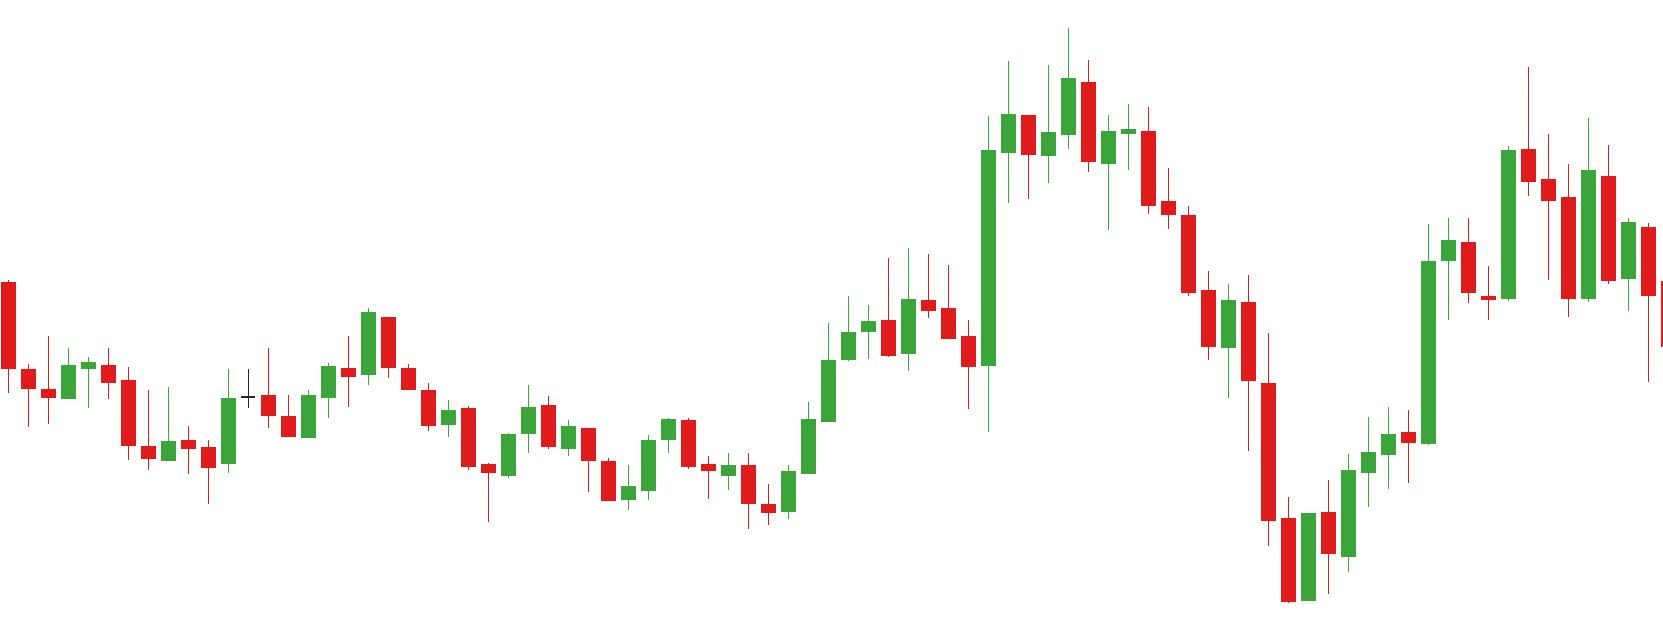sell: (258, 310, 402, 422)
